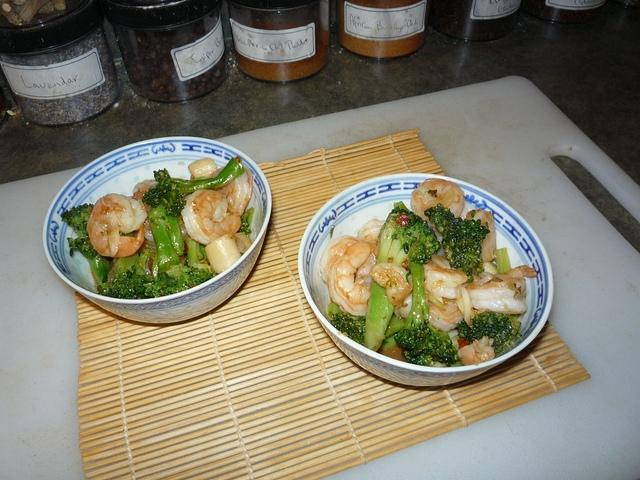broccoli: (364, 206, 440, 352), (393, 258, 459, 367), (458, 248, 522, 358), (148, 203, 213, 298), (143, 158, 245, 216), (424, 203, 490, 282), (60, 203, 110, 291), (328, 310, 406, 346), (96, 250, 140, 299), (164, 216, 184, 256)
